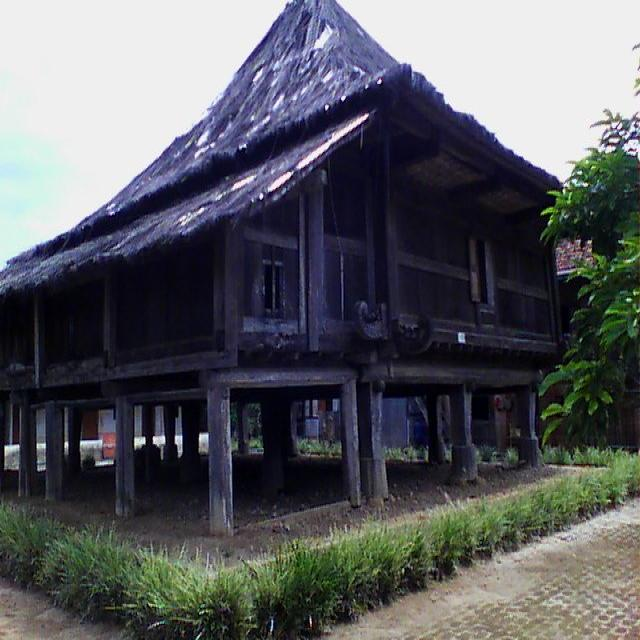Atap: (0, 0, 568, 293)
Tembok Bangunan: (0, 167, 559, 387)
